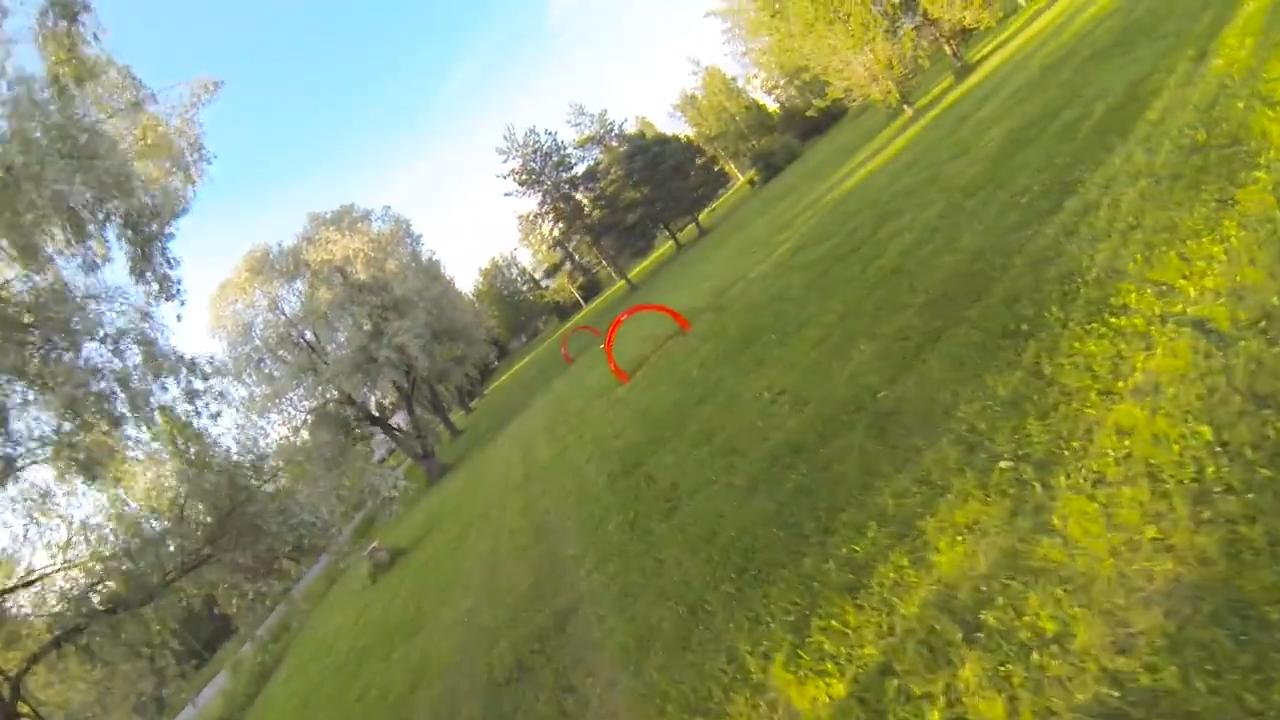gate: (602, 302, 688, 385)
